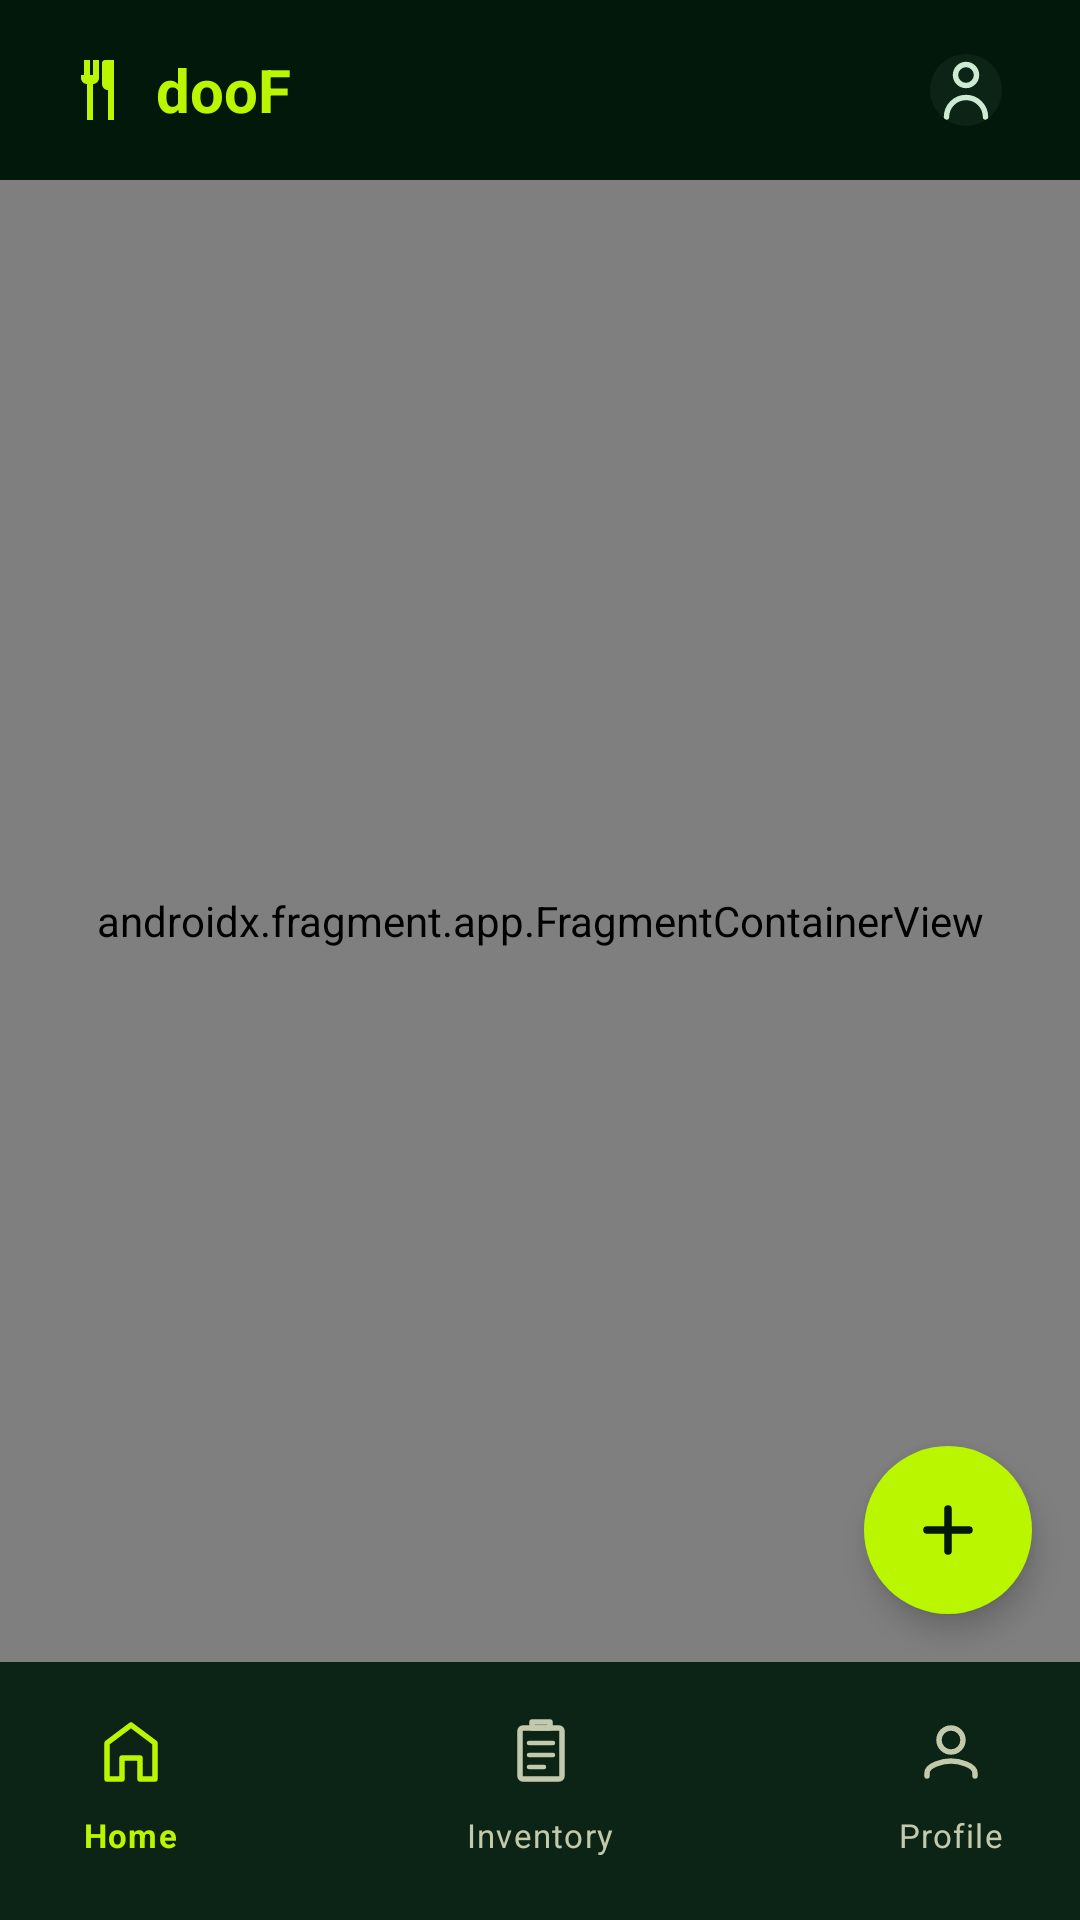

Locate icon controls on the screen. Image size 1080 x 1920, boxes as [x1=x1, y1=y1, x2=x2, y2=y2].
Add item: [x1=864, y1=1446, x2=1032, y2=1614]
